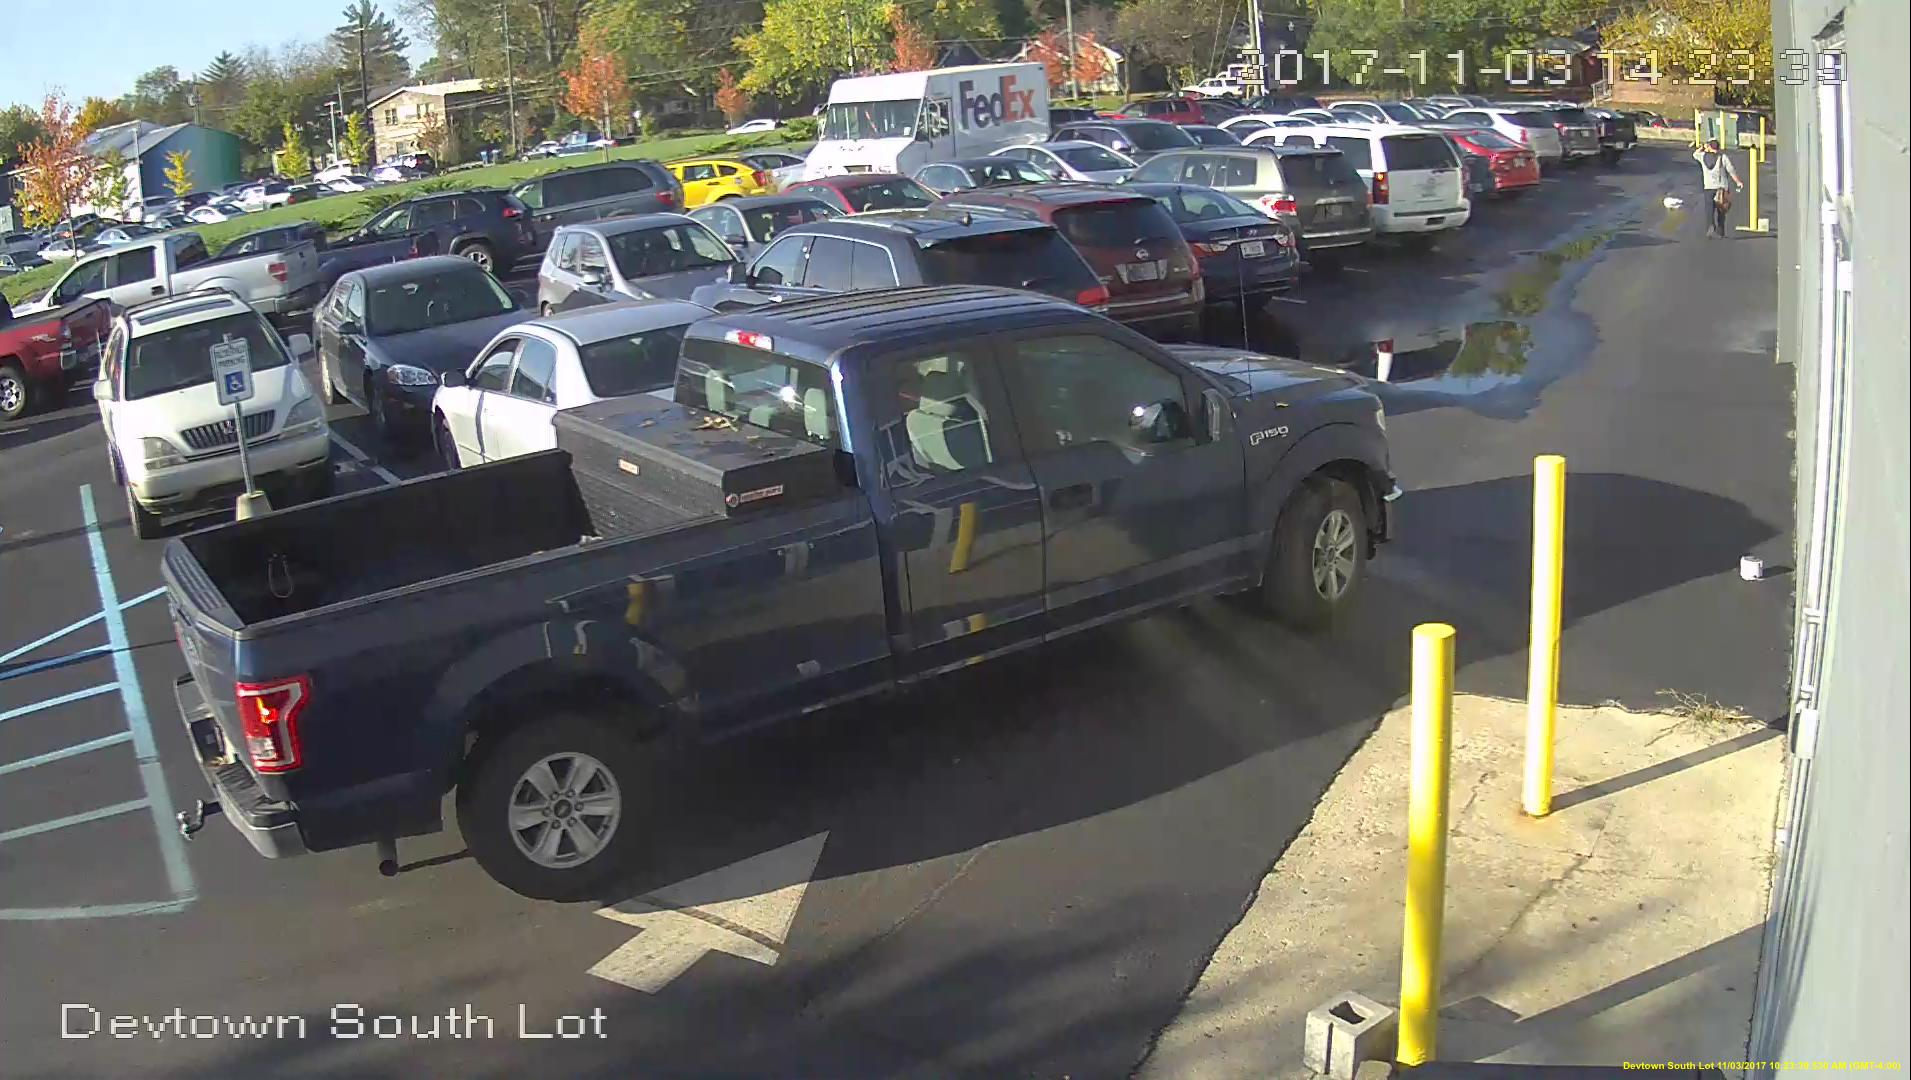fedex_truck: (798, 52, 1057, 188)
